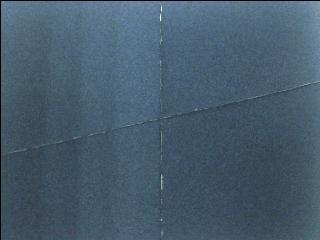crack: (0, 79, 319, 159), (151, 0, 172, 240)
